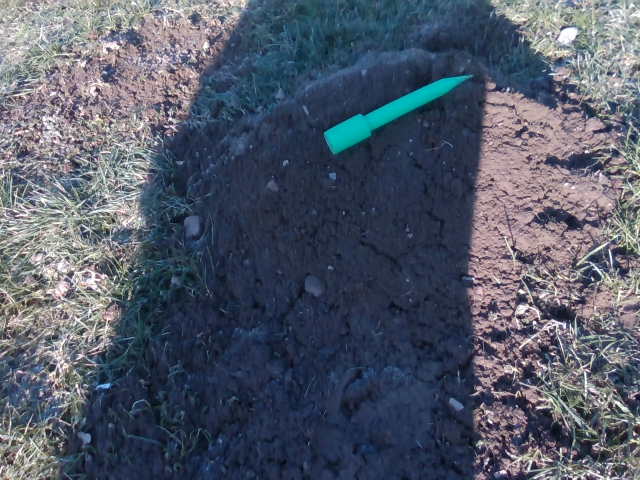Probe: (321, 68, 471, 158)
